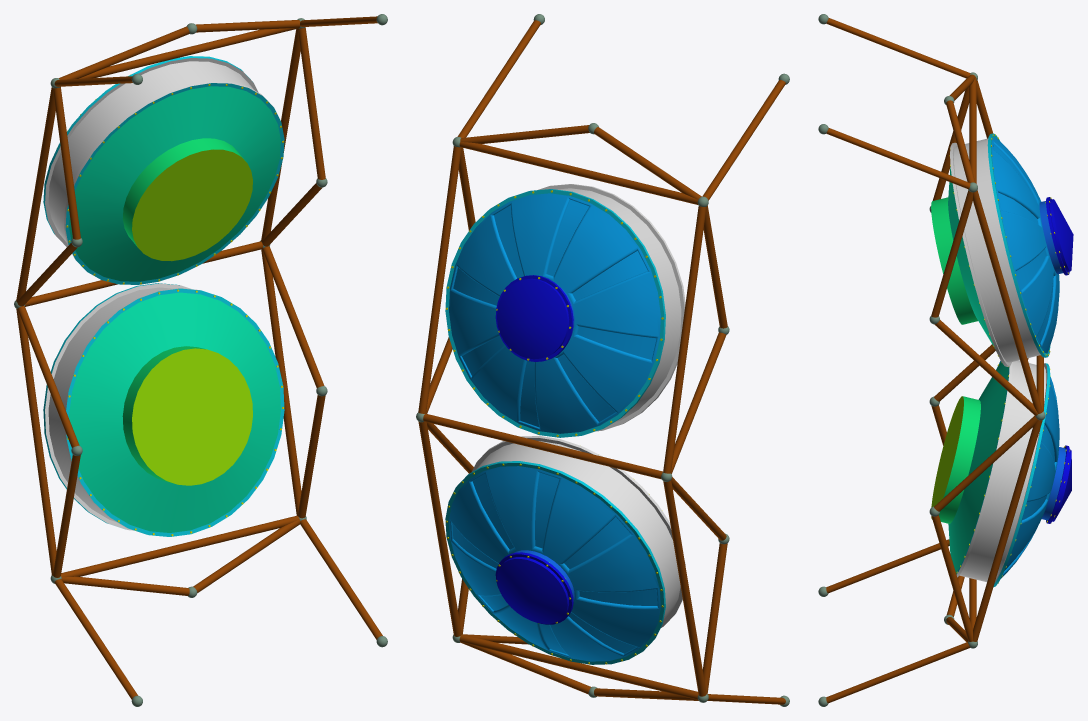
The picture shows the model from 3 angles, left to right: view 1: azimuth 30°, elevation 25°; view 2: azimuth 150°, elevation 25°; view 3: azimuth 270°, elevation 25°; orthographic projection. The views are drawn at different scales.
Visible parts, largest first — view 1: hwr; view 2: hwr; view 3: hwr.
Boxes of the visible parts, x1=… form: hwr: x1=14, y1=14, x2=387, y2=706; hwr: x1=416, y1=14, x2=789, y2=706; hwr: x1=818, y1=14, x2=1073, y2=706.
Size of the model in its own units: 0.364 by 0.8636 by 0.343.
